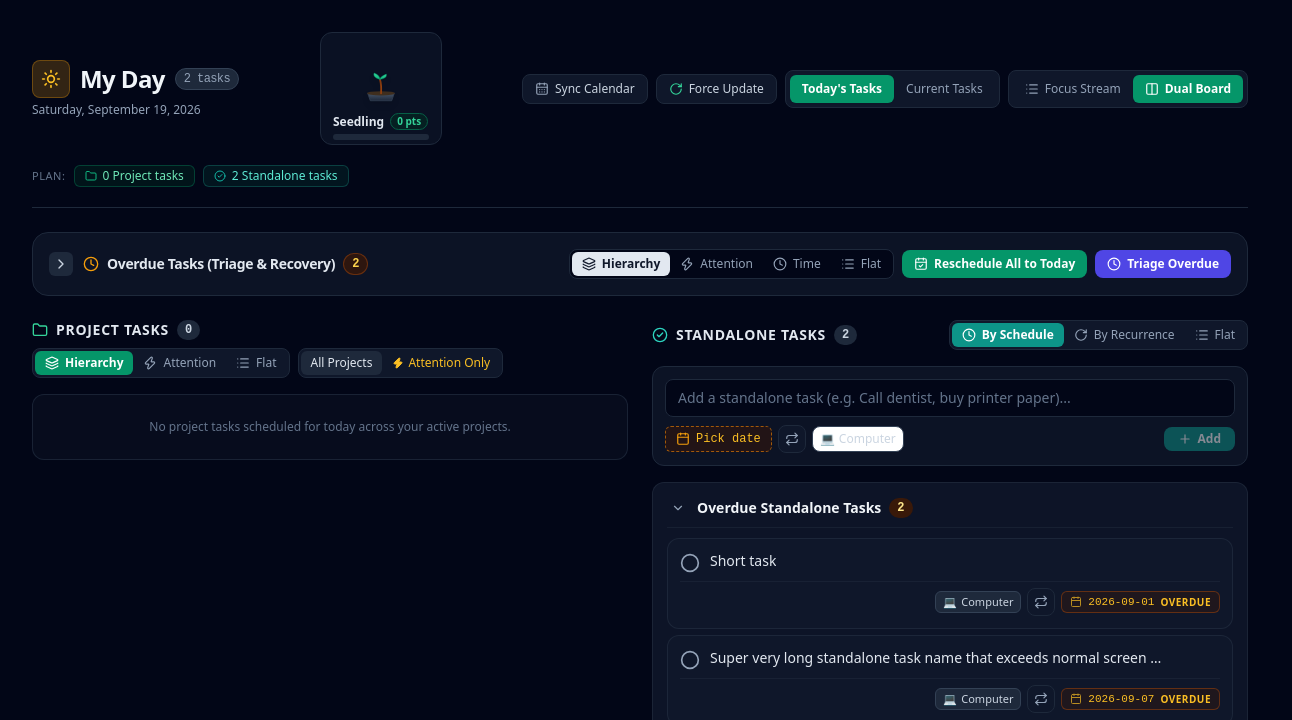
Scenario: Standalone Tasks Name Editing and Tooltip in MyDayView › switches to inline edit mode when clicking on the standalone task name
Note: Click on task name to edit
What coordinates should you click on to do the following:
click the text titled "Super very long standalone task name that exceeds normal screen container space and must be truncated"
I would click on:
 (936, 658)
Its box is [710,648,1162,668].
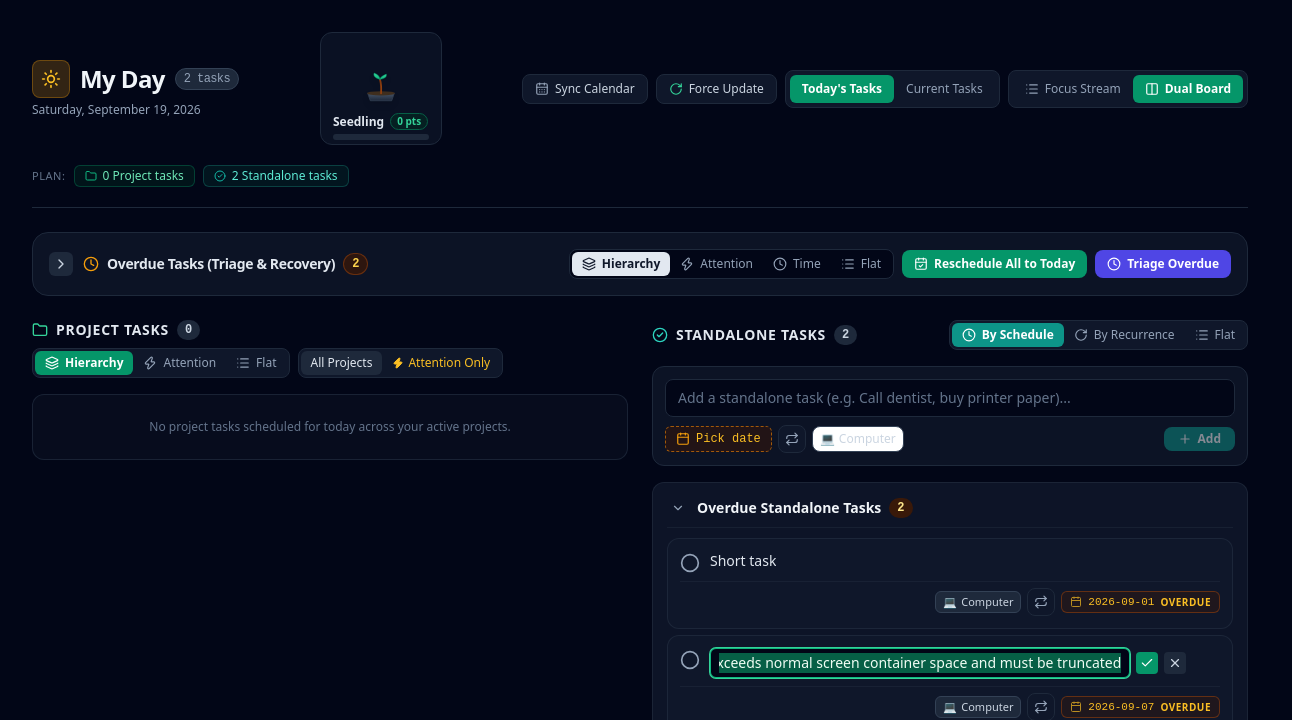
Check: the field showing "Super very long standalone task name that exceeds normal screen container space and must be truncated" is shown, box [710,648,1130,678]
